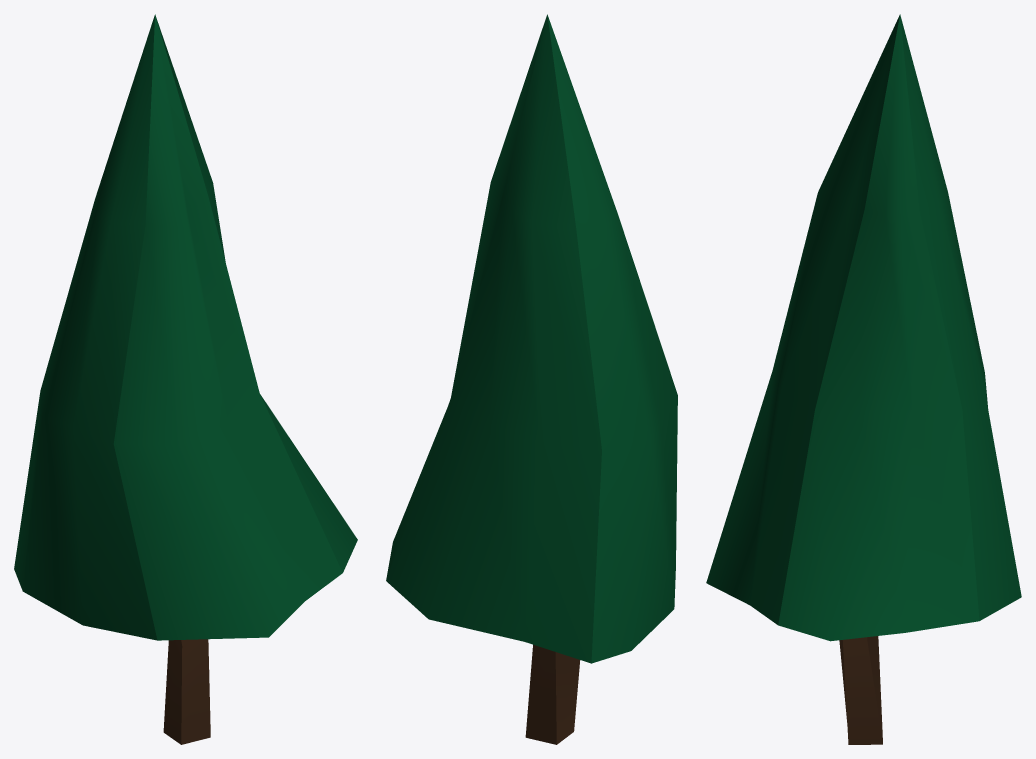
The model's file is Coni_Tree4.fbx.
The picture shows the model from 3 angles, left to right: view 1: azimuth 30°, elevation 25°; view 2: azimuth 150°, elevation 25°; view 3: azimuth 270°, elevation 25°; orthographic projection. The views are drawn at different scales.
Parts seen in each view (by area): view 1: Coni_Tree4_Leaves, Coni_Tree4; view 2: Coni_Tree4_Leaves, Coni_Tree4; view 3: Coni_Tree4_Leaves, Coni_Tree4.
Boxes of the visible parts, <box> form: Coni_Tree4_Leaves: <box>14,14,357,640</box>; Coni_Tree4: <box>163,639,210,744</box>; Coni_Tree4_Leaves: <box>386,14,677,663</box>; Coni_Tree4: <box>525,644,580,744</box>; Coni_Tree4_Leaves: <box>706,14,1021,641</box>; Coni_Tree4: <box>839,636,882,744</box>.
Size of the model in its own units: 109 by 269 by 108.
